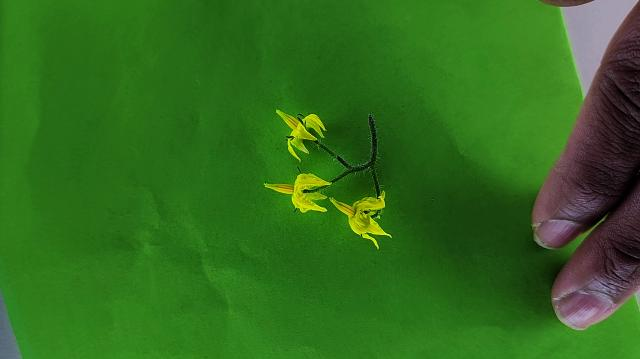Anthesis: (327, 190, 394, 250), (262, 168, 333, 215), (274, 108, 326, 158)
